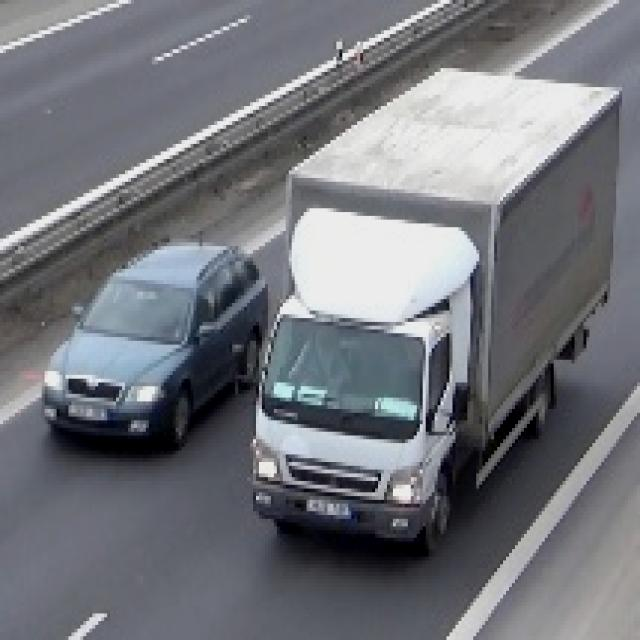truck: (248, 69, 623, 550)
